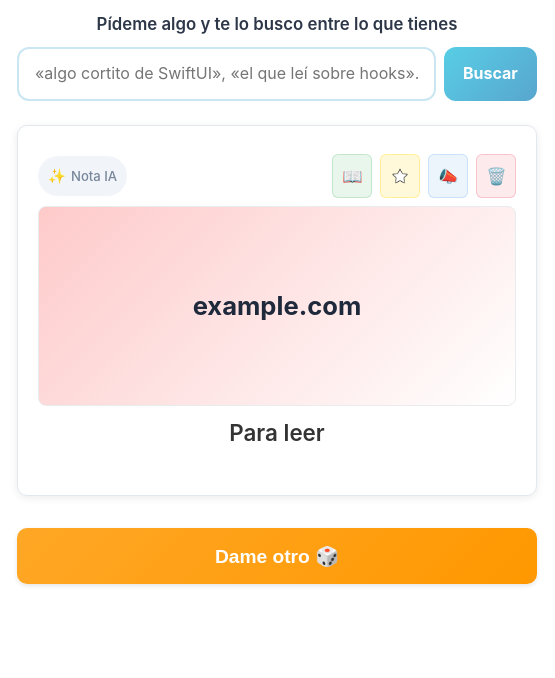
'Todavía no' closes the question without marking it
Click the link with aria-label "Leer: Para leer". click: (277, 327)
box: [38,206,516,447]
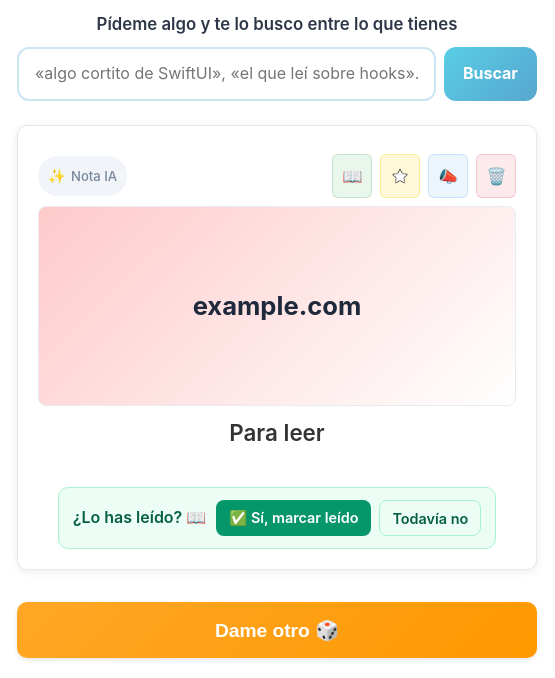
Click the button "Todavía no". click: (430, 518)
box: [380,500,481,536]
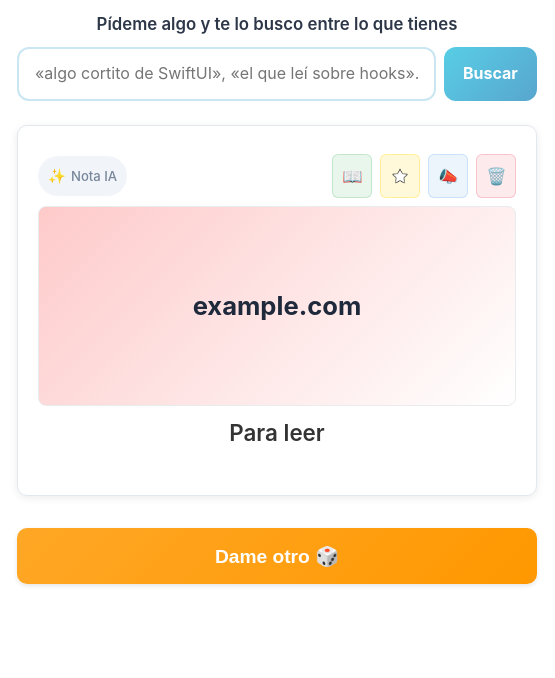
Check: the text "¿Lo has leído?" is gone
